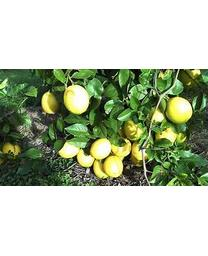lemon: (65, 83, 89, 114), (169, 97, 192, 123), (90, 138, 111, 160), (102, 155, 123, 177)
